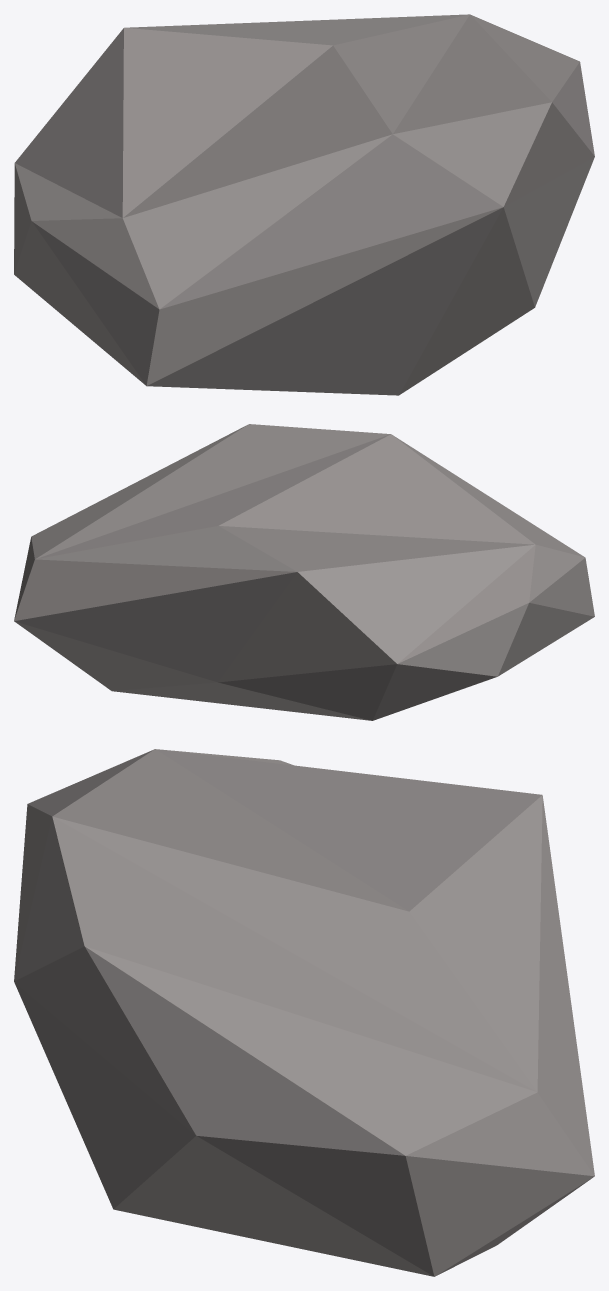
File: SM_Rock_S_03.fbx
3 renders of one model, top to bottom at view 1: azimuth 30°, elevation 25°; view 2: azimuth 150°, elevation 25°; view 3: azimuth 270°, elevation 25°, orthographic. The views are drawn at different scales.
Parts seen in each view (by area): view 1: SM_Rock_S_03; view 2: SM_Rock_S_03; view 3: SM_Rock_S_03.
Part boxes in pixels (x1=…): SM_Rock_S_03: x1=14, y1=14, x2=594, y2=395; SM_Rock_S_03: x1=14, y1=424, x2=594, y2=720; SM_Rock_S_03: x1=14, y1=749, x2=594, y2=1276.
Bounding box in the file's own units: 90.54 × 41.25 × 60.65.
